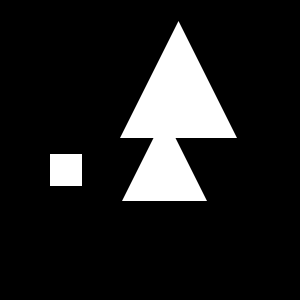circle: (50, 154, 82, 186)
triangle: (120, 21, 237, 138), (122, 116, 207, 201)
